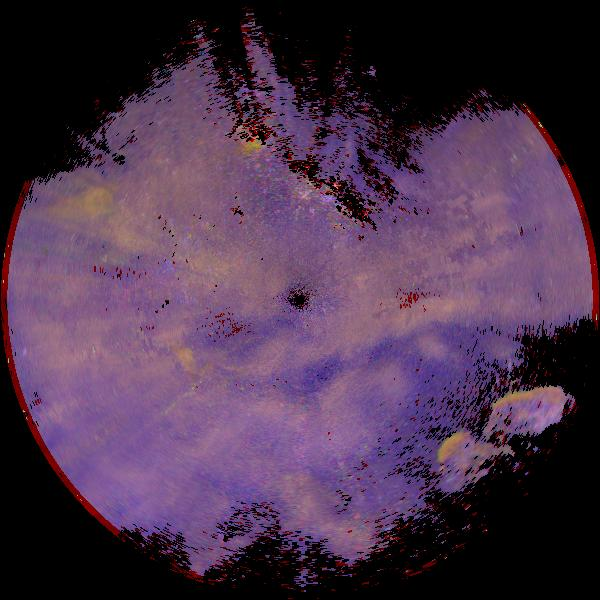roost: (132, 328, 210, 406)
